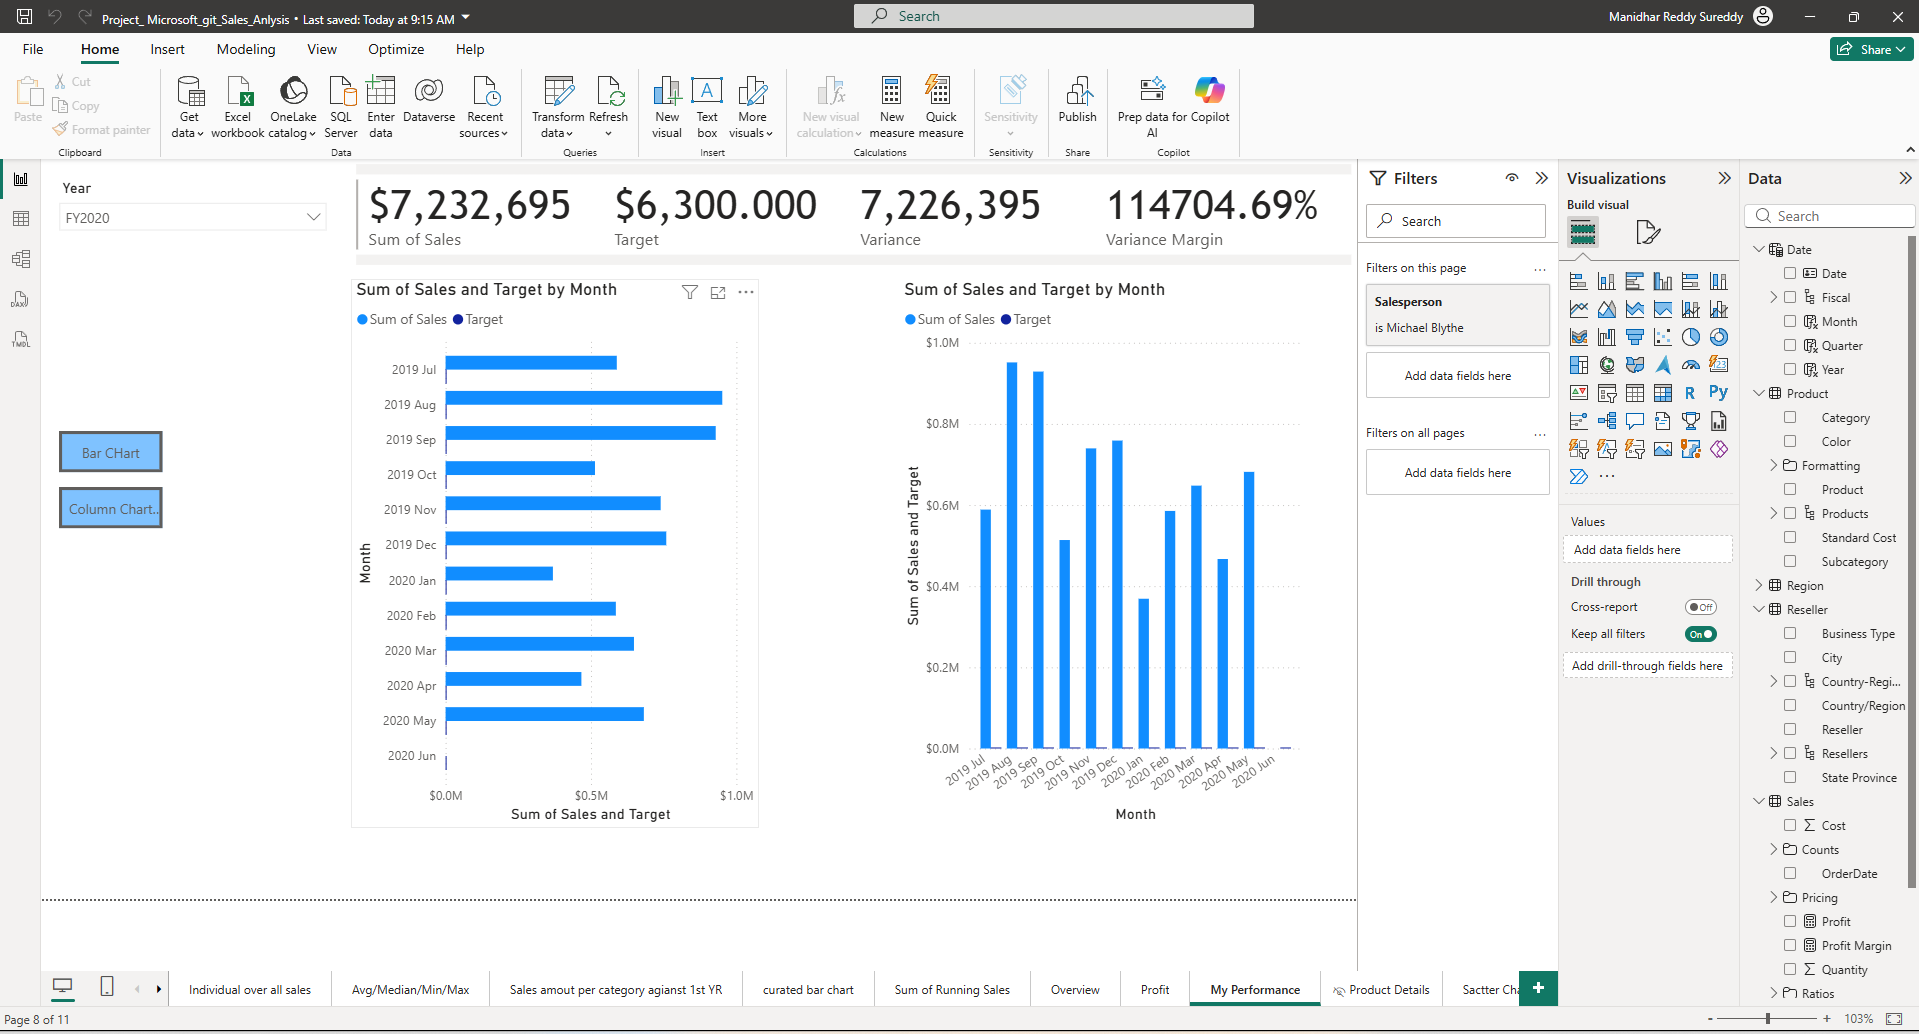

This screenshot's page, from the dashboard's own definition file:
{"tool":"powerbi","page":{"name":"My Performance","canvas":[1280,720],"ordinal":7},"visuals":[{"type":"slicer","fields":{"Values":["Date.Year"]},"box":[7.8,14.6,280.1,93.4],"z":0},{"type":"multiRowCard","fields":{"Values":["Sum(Sales.Sales)","Targets.Target","Targets.Variance","Targets.Variance Margin"]},"box":[301.5,0,978.5,108],"z":1000},{"type":"clusteredBarChart","fields":{"Category":["Date.Month"],"Y":["Sum(Sales.Sales)","Targets.Target"]},"box":[301.5,116.7,396.8,534],"z":2000},{"type":"clusteredColumnChart","fields":{"Category":["Date.Month"],"Y":["Sum(Sales.Sales)","Targets.Target"]},"box":[834.5,116.7,396.8,534],"z":3000},{"type":"actionButton","box":[17.4,264.3,100.6,40.3],"z":3002},{"type":"actionButton","box":[17.4,319.3,100.6,40.3],"z":3003}]}

Visuals, with their boxes on the page's 1280x720 design canvas (x1, y1, x2, y2). These are canvas units, not pixel positions in the 1919x1034 screenshot, which may show the page scaled, cropped or inside an application window:
slicer - Date.Year: {"left": 8, "top": 15, "right": 288, "bottom": 108}
multiRowCard - Sum(Sales.Sales) x Targets.Target: {"left": 302, "top": 0, "right": 1280, "bottom": 108}
clusteredBarChart - Date.Month x Sum(Sales.Sales): {"left": 302, "top": 117, "right": 698, "bottom": 651}
clusteredColumnChart - Date.Month x Sum(Sales.Sales): {"left": 834, "top": 117, "right": 1231, "bottom": 651}
actionButton: {"left": 17, "top": 264, "right": 118, "bottom": 305}
actionButton: {"left": 17, "top": 319, "right": 118, "bottom": 360}
